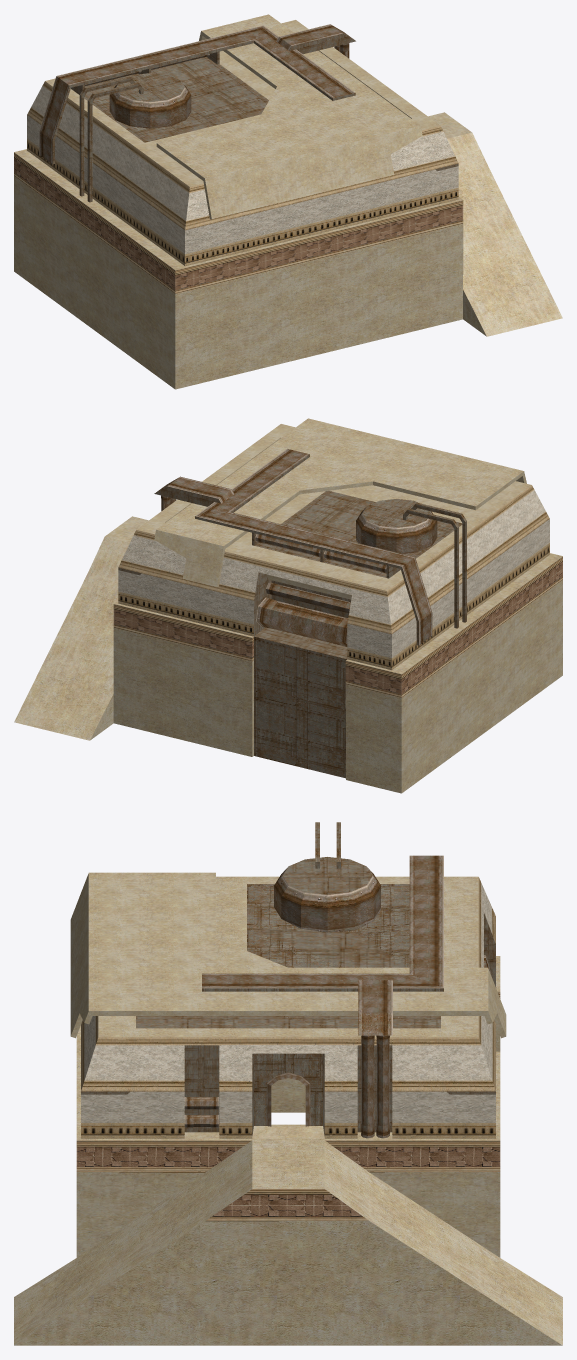
File: ply_tato_cloning_facility_s01_r0_mesh_l1.fbx
3 views of the same model, one above another, from view 1: azimuth 30°, elevation 25°; view 2: azimuth 150°, elevation 25°; view 3: azimuth 270°, elevation 25° (orthographic). The views are drawn at different scales.
Parts seen in each view (by area): view 1: mesh_node; view 2: mesh_node; view 3: mesh_node.
Part boxes in pixels (x1,y1,x2,y2): mesh_node: (14, 14, 562, 389); mesh_node: (14, 418, 562, 793); mesh_node: (14, 822, 562, 1345).
Size of the model in its own units: 31.9 by 18.93 by 31.75.
